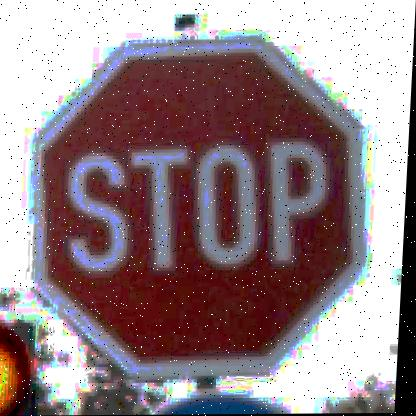Stop Sign: (26, 16, 374, 384)
